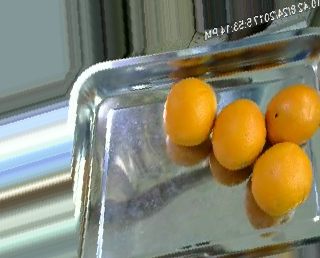Orange: (249, 141, 312, 214), (212, 98, 268, 170), (163, 77, 217, 146), (264, 84, 319, 144)
